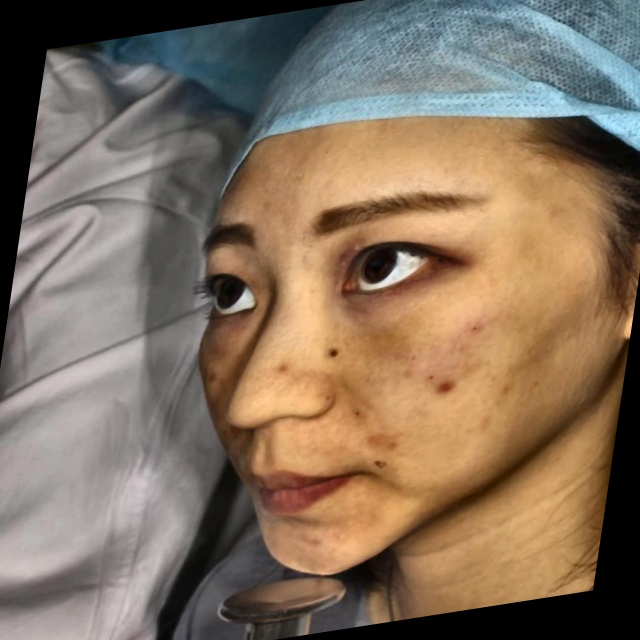comedone: (287, 523, 328, 563), (357, 423, 398, 462), (434, 368, 465, 402)
